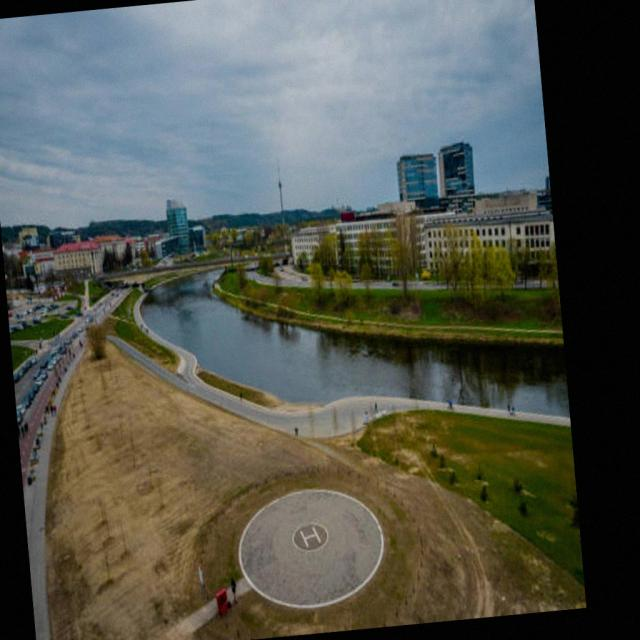helipad: (290, 519, 330, 554)
